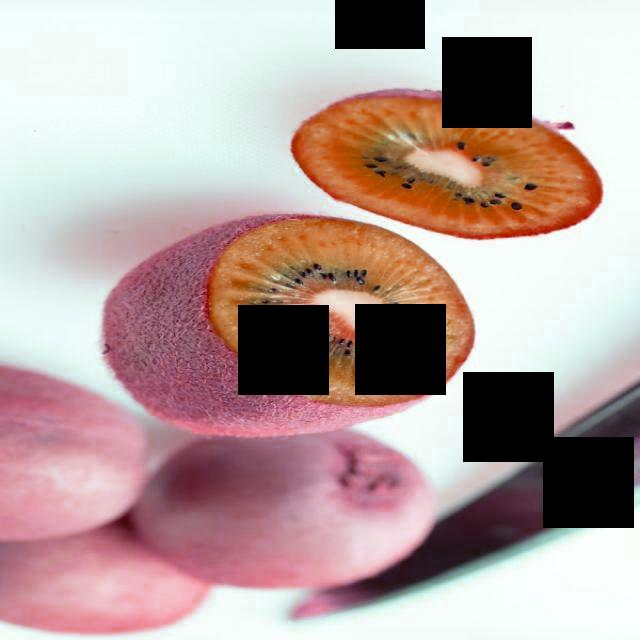kiwi: (129, 428, 431, 589), (1, 363, 151, 543), (3, 527, 208, 636)
